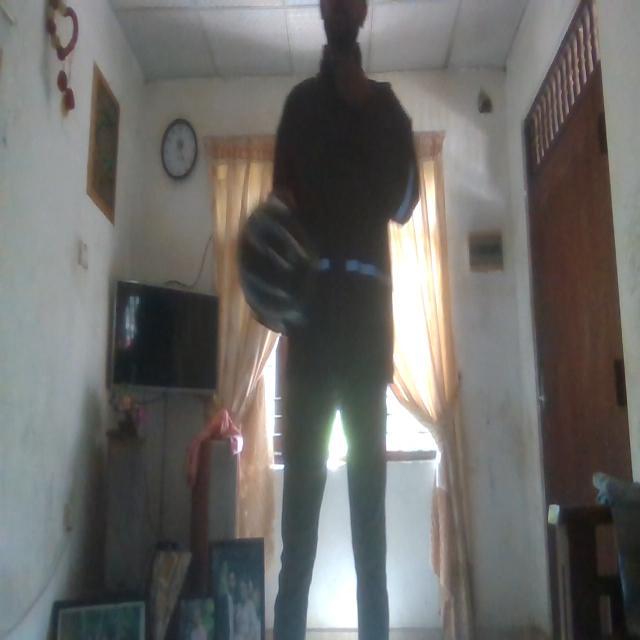Jacket_Wearer: (263, 49, 410, 411)
Person: (242, 0, 426, 640)
